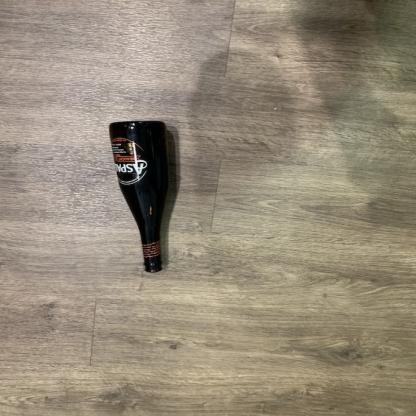trash: (106, 120, 177, 274)
